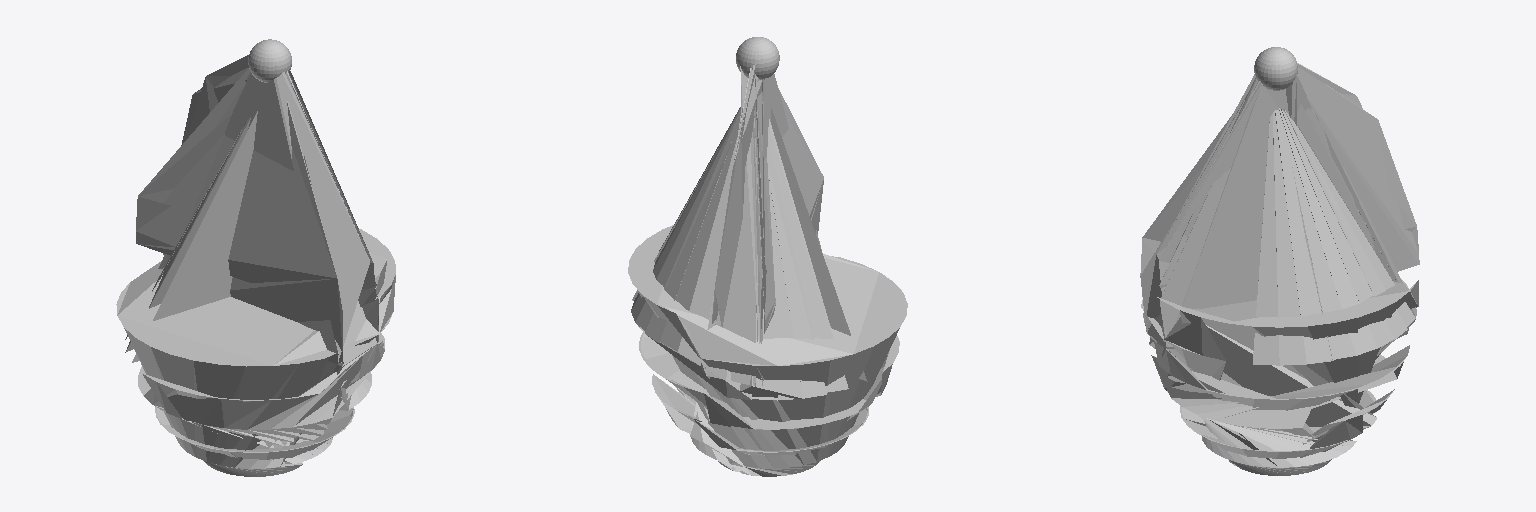
Rendered from white.obj.
3 views of the same model, side by side, from view 1: azimuth 30°, elevation 25°; view 2: azimuth 150°, elevation 25°; view 3: azimuth 270°, elevation 25° (orthographic).
Visible parts, largest first — view 1: Cylinder001, Sphere001, Sphere002; view 2: Cylinder001, Sphere001, Sphere002; view 3: Cylinder001, Sphere001, Sphere002.
Boxes of the visible parts, <box> form: Cylinder001: <box>116,44,395,476</box>; Sphere001: <box>136,41,378,372</box>; Sphere002: <box>248,39,291,81</box>; Cylinder001: <box>628,37,907,476</box>; Sphere001: <box>701,41,822,385</box>; Sphere002: <box>736,37,778,77</box>; Cylinder001: <box>1140,49,1419,475</box>; Sphere001: <box>1140,47,1418,386</box>; Sphere002: <box>1254,47,1297,89</box>.
Bounding box in the file's own units: 219918 × 368816 × 219120.